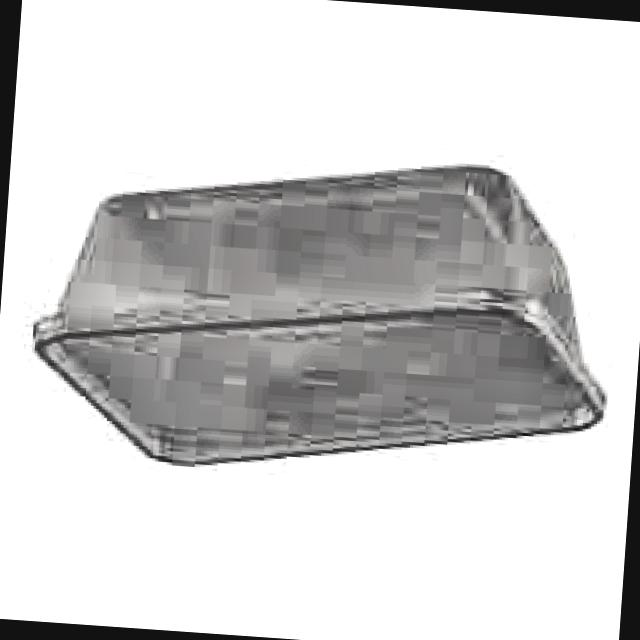plastic container: (35, 168, 603, 464)
